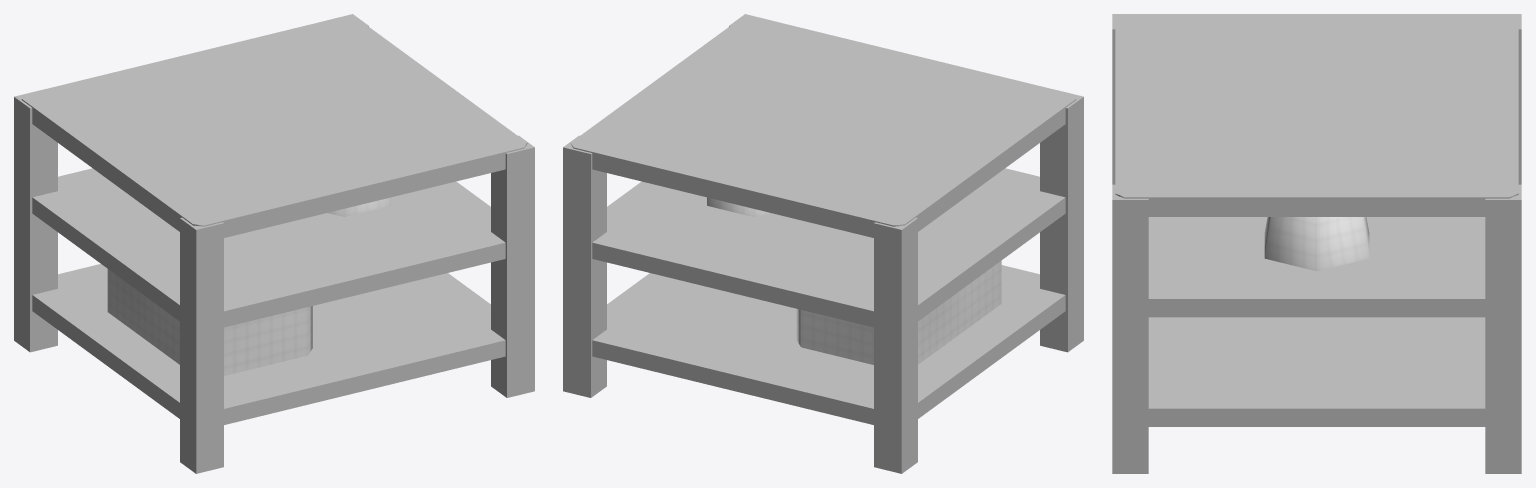
The model's file is shelf_small.obj.
3 renders of one model, left to right at view 1: azimuth 30°, elevation 25°; view 2: azimuth 150°, elevation 25°; view 3: azimuth 270°, elevation 25°, orthographic. The views are drawn at different scales.
Visible parts, largest first — view 1: upper_shelf, middle_shelf, lower_shelf, post_1, post_3, post_2, cloth_bundle; view 2: upper_shelf, middle_shelf, lower_shelf, post_2, post_4, post_1, cloth_bundle; view 3: upper_shelf, lower_shelf, middle_shelf, post_3, post_4, linen_roll, post_1, post_2.
Part boxes in pixels (x1,y1,x2,y2): upper_shelf: (21,16,527,237); middle_shelf: (32,168,505,327); lower_shelf: (32,264,505,424); post_1: (180,217,223,473); post_3: (491,135,534,397); post_2: (14,92,57,352); cloth_bundle: (107,269,312,375); upper_shelf: (570,16,1076,237); middle_shelf: (592,168,1065,327); lower_shelf: (592,265,1065,424); post_2: (874,217,917,473); post_4: (563,135,606,397); post_1: (1040,92,1083,352); cloth_bundle: (796,260,1001,364); upper_shelf: (1115,14,1518,216); lower_shelf: (1148,317,1485,426); middle_shelf: (1148,217,1485,317); post_3: (1112,184,1148,473); post_4: (1485,184,1521,473); linen_roll: (1264,217,1369,271); post_1: (1112,14,1123,184); post_2: (1510,14,1521,184).
Bounding box in the file's own units: 0.872 × 0.603 × 0.812.
